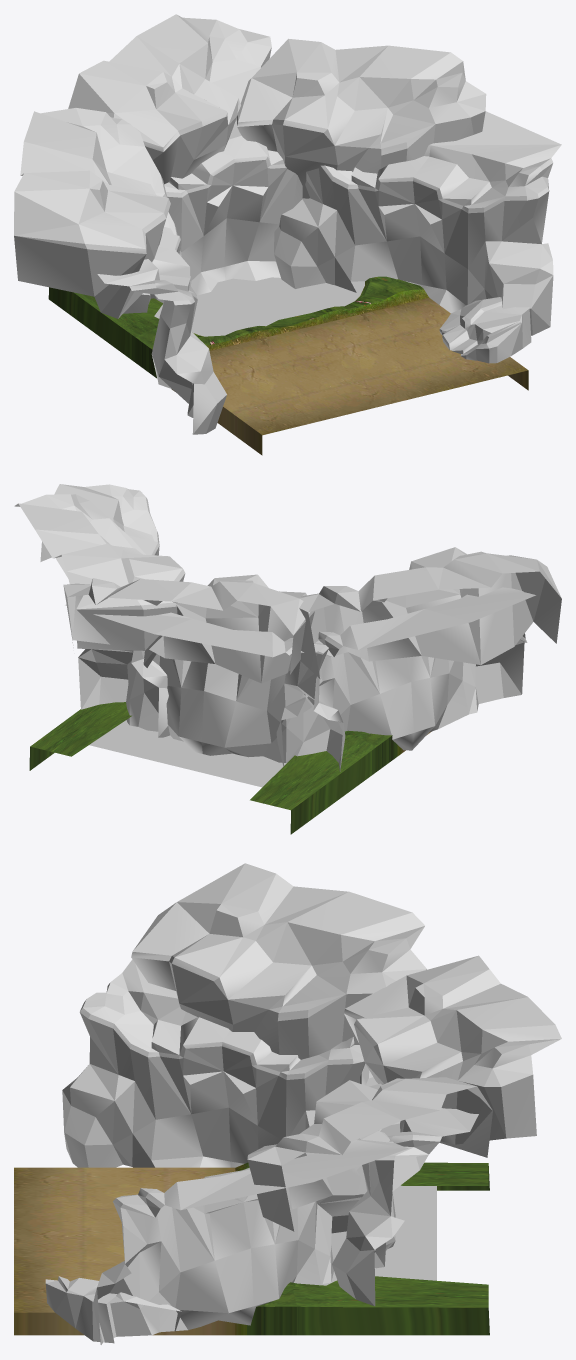
Rendered from character selec.fbx.
The picture shows the model from 3 angles, top to bottom: view 1: azimuth 30°, elevation 25°; view 2: azimuth 150°, elevation 25°; view 3: azimuth 270°, elevation 25°; orthographic projection. The views are drawn at different scales.
Visible parts, largest first — view 1: left_and_right; view 2: left_and_right; view 3: left_and_right.
Part boxes in pixels (x1,y1,x2,y2): left_and_right: [14, 14, 561, 455]; left_and_right: [14, 484, 561, 834]; left_and_right: [14, 863, 561, 1344].
Size of the model in its own units: 56954 by 23182 by 45775.
